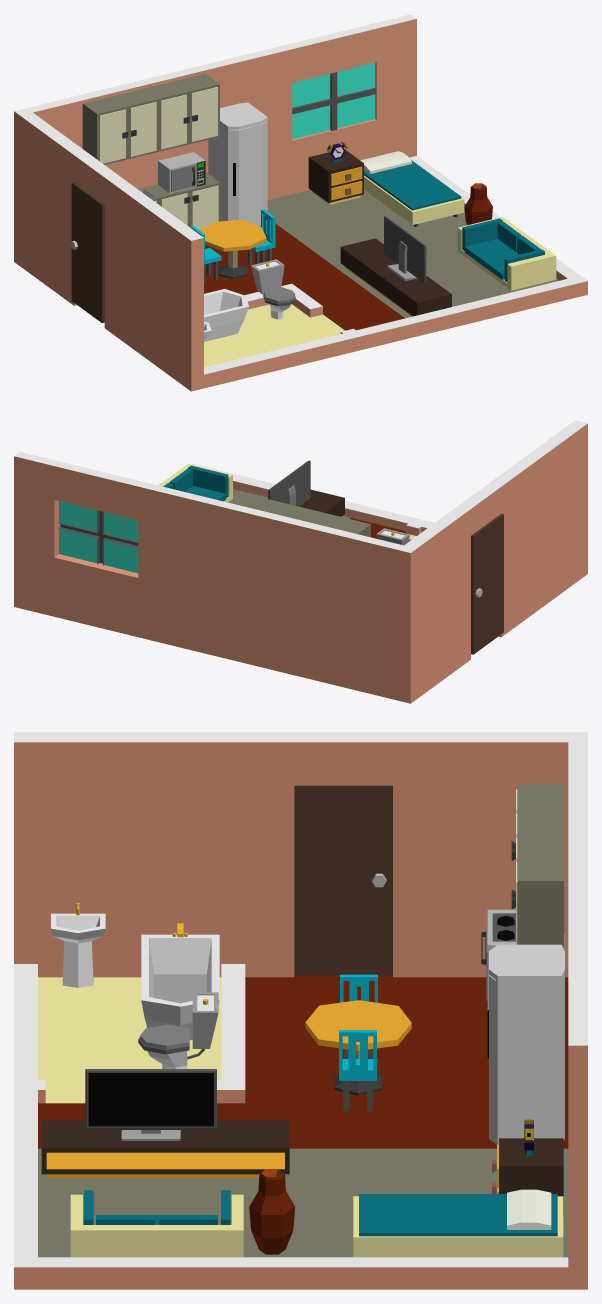
The model's file is Everything.FBX.
The picture shows the model from 3 angles, top to bottom: view 1: azimuth 30°, elevation 25°; view 2: azimuth 150°, elevation 25°; view 3: azimuth 270°, elevation 25°; orthographic projection. The views are drawn at different scales.
Visible parts, largest first — view 1: Piso, Sofa, Cama, Porta, rack, Geladeira_Porta, Geladeira, Mesa, TV, Banheira, criadomudo, Armario_Alto_005 (+14 smaller); view 2: Piso, Porta, Sofa, TV, rack, Armario_Alto_005, Armario_Alto_003, Armario_Alto_1, Armario_Alto_004, Vaso; view 3: Piso, Porta, Cama, Geladeira, rack, TV, Sofa, Banheira, Mesa, Armario_Alto_003, criadomudo, Vaso_Sala (+10 smaller).
Boxes of the visible parts, x1,y1,x2,y2 form: Piso: (14, 14, 587, 391); Sofa: (457, 216, 556, 290); Cama: (360, 151, 464, 226); Porta: (71, 182, 104, 323); rack: (340, 238, 451, 316); Geladeira_Porta: (230, 121, 266, 224); Geladeira: (208, 102, 267, 225); Mesa: (199, 219, 266, 278); TV: (384, 216, 426, 282); Banheira: (204, 289, 248, 341); criadomudo: (308, 149, 363, 204); Armario_Alto_005: (82, 96, 127, 164); Piso: (14, 420, 587, 703); Porta: (471, 513, 503, 654); Sofa: (158, 464, 232, 502); TV: (268, 460, 310, 506); rack: (299, 489, 344, 516); Armario_Alto_005: (327, 516, 370, 537); Armario_Alto_003: (235, 494, 278, 511); Armario_Alto_1: (296, 509, 339, 526); Armario_Alto_004: (266, 502, 309, 518); Vaso: (376, 528, 409, 545); Piso: (14, 732, 587, 1289); Porta: (294, 785, 392, 975); Cama: (353, 1189, 563, 1257); Geladeira: (489, 944, 564, 1144); rack: (41, 1120, 289, 1178); TV: (85, 1069, 216, 1140); Sofa: (70, 1190, 243, 1257); Banheira: (141, 923, 219, 1040); Mesa: (305, 1000, 411, 1095); Armario_Alto_003: (517, 856, 563, 948); criadomudo: (499, 1138, 563, 1216); Vaso_Sala: (249, 1169, 295, 1254).
Bounding box in the file's own units: 84.93 × 64.83 × 30.41.
1 material, 1 textured.
